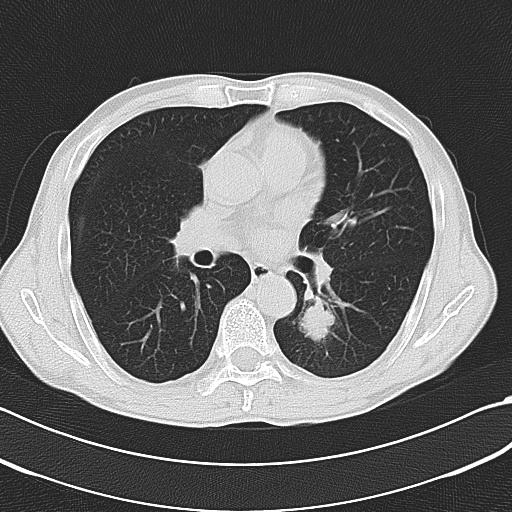Copy of cancer: (317, 266, 364, 311)
cancer: (294, 299, 341, 344)
non-cancer: (316, 189, 363, 234)
